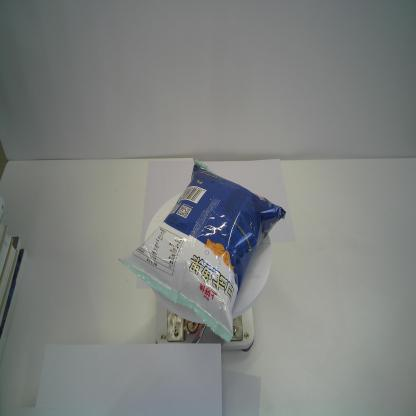Puffed Food: (118, 156, 286, 344)
